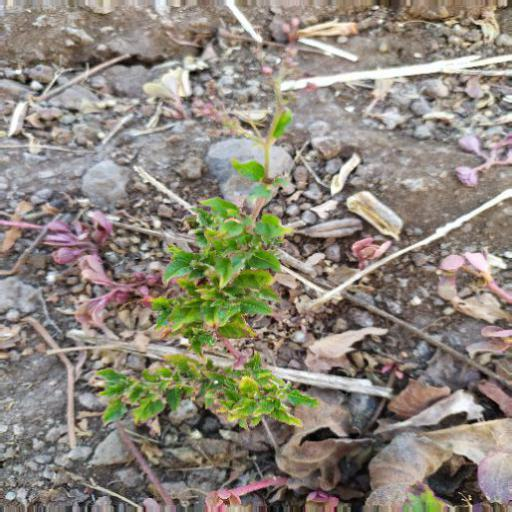weed: (91, 99, 353, 436)
